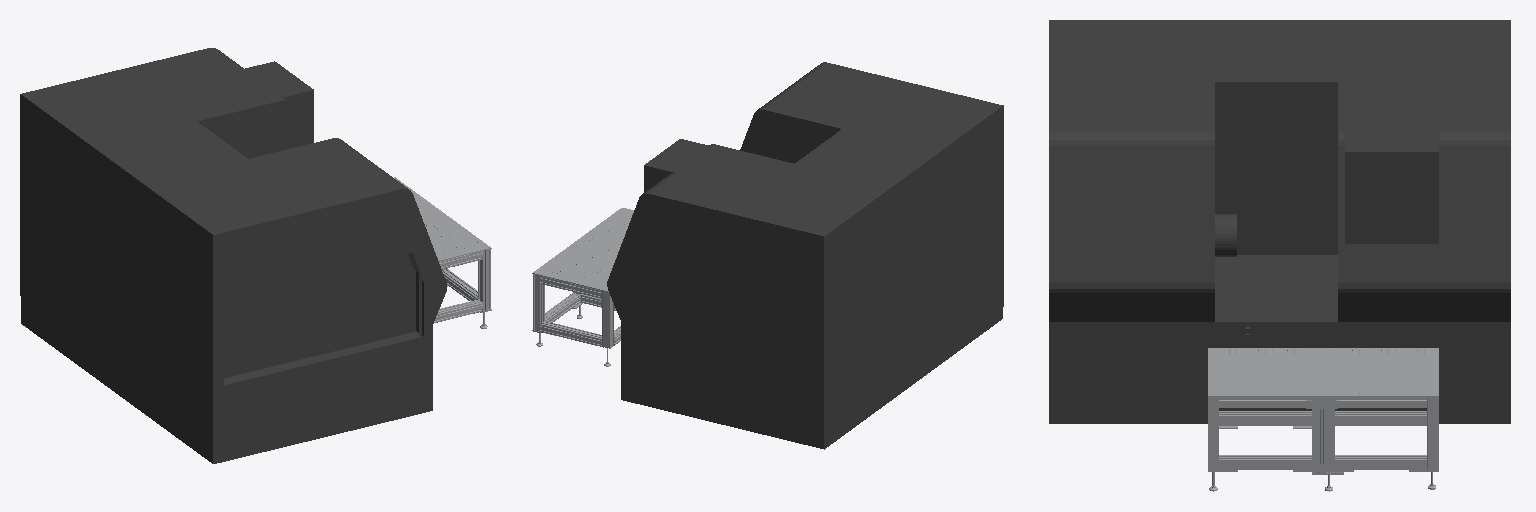
The robot description file, URDF, robot "robot":
<?xml version="1.0" encoding="UTF-8"?>
<robot name="robot">
	<link name="world" />
	<link name="machine">
		<visual>
			<geometry>
				<mesh filename="package://robotplus_description/meshes/machine.STL" />
			</geometry>
			<material name="">
				<color rgba="0.31 0.31 0.31 1" />
			</material>
		</visual>
		<collision>
			<origin xyz="0 0 0" rpy="0 0 0" />
			<geometry>
				<mesh filename="package://robotplus_description/meshes/machine.STL" />
			</geometry>
		</collision>
	</link>
	<link name="base">
		<visual>
			<geometry>
				<mesh filename="package://robotplus_description/meshes/base.STL"/>
			</geometry>
			<material name="">
				<color rgba="0.67 0.68 0.69 1" />
			</material>
		</visual>
		<collision>
			<origin xyz="0 0 0" rpy="0 0 0" />
			<geometry>
				<mesh filename="package://robotplus_description/meshes/base.STL"/>
			</geometry>
		</collision>
	</link>
	<link name="base_link">
		<visual>
			<geometry>
				<mesh filename="package://robotplus_description/meshes/UR10e/base_link.STL" />
			</geometry>
			<material name="">
				<color rgba="0.594117647058824 0.594117647058824 0.594117647058824 1" />
			</material>
		</visual>
		<collision>
			<origin xyz="0 0 0" rpy="0 0 0" />
			<geometry>
				<mesh filename="package://robotplus_description/meshes/UR10e/base_link.STL" />
			</geometry>
		</collision>
	</link>
	<link name="link1">
		<visual>
			<geometry>
				<mesh filename="package://robotplus_description/meshes/UR10e/link1.STL" />
			</geometry>
			<material name="">
				<color rgba="0.79216 0.81961 0.93333 1" />
			</material>
		</visual>
		<collision>
			<origin xyz="0 0 0" rpy="0 0 0" />
			<geometry>
				<mesh filename="package://robotplus_description/meshes/UR10e/link1.STL" />
			</geometry>
		</collision>
	</link>
	<link name="link2">
		<visual>
			<geometry>
				<mesh filename="package://robotplus_description/meshes/UR10e/link2.STL" />
			</geometry>
			<material name="">
				<color rgba="0.79216 0.81961 0.93333 1" />
			</material>
		</visual>
		<collision>
			<origin xyz="0 0 0" rpy="0 0 0" />
			<geometry>
				<mesh filename="package://robotplus_description/meshes/UR10e/link2.STL" />
			</geometry>
		</collision>
	</link>
	<link name="link3">
		<visual>
			<geometry>
				<mesh filename="package://robotplus_description/meshes/UR10e/link3.STL" />
			</geometry>
			<material name="">
				<color rgba="0.79216 0.81961 0.93333 1" />
			</material>
		</visual>
		<collision>
			<origin xyz="0 0 0" rpy="0 0 0" />
			<geometry>
				<mesh filename="package://robotplus_description/meshes/UR10e/link3.STL" />
			</geometry>
		</collision>
	</link>
	<link name="link4">
		<visual>
			<geometry>
				<mesh filename="package://robotplus_description/meshes/UR10e/link4.STL" />
			</geometry>
			<material name="">
				<color rgba="0.79216 0.81961 0.93333 1" />
			</material>
		</visual>
		<collision>
			<origin xyz="0 0 0" rpy="0 0 0" />
			<geometry>
				<mesh filename="package://robotplus_description/meshes/UR10e/link4.STL" />
			</geometry>
		</collision>
	</link>
	<link name="link5">
		<visual>
			<geometry>
				<mesh filename="package://robotplus_description/meshes/UR10e/link5.STL" />
			</geometry>
			<material name="">
				<color rgba="0.79216 0.81961 0.93333 1" />
			</material>
		</visual>
		<collision>
			<origin xyz="0 0 0" rpy="0 0 0" />
			<geometry>
				<mesh filename="package://robotplus_description/meshes/UR10e/link5.STL" />
			</geometry>
		</collision>
	</link>
	<link name="link6">
		<visual>
			<geometry>
				<mesh filename="package://robotplus_description/meshes/UR10e/link6.STL" />
			</geometry>
			<material name="">
				<color rgba="0.79216 0.81961 0.93333 1" />
			</material>
		</visual>
		<collision>
			<origin xyz="0 0 0" rpy="0 0 0" />
			<geometry>
				<mesh filename="package://robotplus_description/meshes/UR10e/link6.STL" />
			</geometry>
		</collision>
	</link>
	<link name="end" />
	<joint name="link6_end" type="fixed">
		<origin xyz="0 0 -0.1153" rpy="1.5708 0 1.5708" />
		<parent link="link6" />
		<child link="end" />
		<axis xyz="0 0 0" />
	</joint>
	<link name="gripper_cam_jig">
		<visual>
			<origin xyz="0 0 0" rpy="0 0 0" />
			<geometry>
				<mesh filename="package://keti_robot_description/meshes/gripper_cam_jig.STL" />
			</geometry>
			<material name="">
				<color rgba="0.898039215686275 0.917647058823529 0.929411764705882 1" />
			</material>
		</visual>
		<collision>
			<origin xyz="0 0 0" rpy="0 0 0" />
			<geometry>
				<mesh filename="package://keti_robot_description/meshes/gripper_cam_jig.STL" />
			</geometry>
		</collision>
	</link>
	<link name="cam">
		<visual>
			<origin xyz="0 0 0" rpy="0 0 0" />
			<geometry>
				<mesh filename="package://keti_robot_description/meshes/cam.STL" />
			</geometry>
			<material name="">
				<color rgba="0.792156862745098 0.819607843137255 0.933333333333333 1" />
			</material>
		</visual>
		<collision>
			<origin xyz="0 0 0" rpy="0 0 0" />
			<geometry>
				<mesh filename="package://keti_robot_description/meshes/cam.STL" />
			</geometry>
		</collision>
	</link>

	<joint name="machine_fixed" type="fixed">
		<origin xyz="-0.58 -1.52 0" rpy="0 -1.5709 0" />
		<parent link="world" />
		<child link="machine" />
	</joint>
	<joint name="base_fixed" type="fixed">
		<origin xyz="0.42 0.62 0" rpy="-1.5709 0 3.1416"/>
		<parent link="base_link"/>
		<child link="base"/>
	</joint>
	<joint name="base_link_fixed" type="fixed">
		<origin xyz="0 0 0.77" rpy="0 0 -1.5709"/>
		<parent link="world"/>
		<child link="base_link"/>
	</joint>
	<joint name="q1" type="revolute">
		<origin xyz="0 0 0" rpy="0 0 0" />
		<parent link="base_link" />
		<child link="link1" />
		<axis xyz="0 0 1" />
		<limit lower="-3.14" upper="3.14" effort="100" velocity="10" />
	</joint>
	<joint name="q2" type="revolute">
		<origin xyz="0 0 0.1807" rpy="1.5708 1.5708 0" />
		<parent link="link1" />
		<child link="link2" />
		<axis xyz="0 0 1" />
		<limit lower="-3.14" upper="3.14" effort="100" velocity="10" />
	</joint>
	<joint name="q3" type="revolute">
		<origin xyz="-0.6127 0 0" rpy="0 0 0" />
		<parent link="link2" />
		<child link="link3" />
		<axis xyz="0 0 1" />
		<limit lower="-3.14" upper="3.14" effort="100" velocity="10" />
	</joint>
	<joint name="q4" type="revolute">
		<origin xyz="-0.57155 0 0" rpy="0 0 -1.5708" />
		<parent link="link3" />
		<child link="link4" />
		<axis xyz="0 0 1" />
		<limit lower="-3.14" upper="3.14" effort="100" velocity="10" />
	</joint>
	<joint name="q5" type="revolute">
		<origin xyz="0 0 0.17415" rpy="1.5708 0 0" />
		<parent link="link4" />
		<child link="link5" />
		<axis xyz="0 0 1" />
		<limit lower="-3.14" upper="3.14" effort="100" velocity="10" />
	</joint>
	<joint name="q6" type="revolute">
		<origin xyz="0 0 0.11985" rpy="-1.5708 0 0" />
		<parent link="link5" />
		<child link="link6" />
		<axis xyz="0 0 1" />
		<limit lower="-3.14" upper="3.14" effort="100" velocity="10" />
	</joint>
	<joint name="link6_jig" type="fixed">
		<origin xyz="0 0 0.12" rpy="3.1416 0 1.5709" />
		<parent link="link6" />
		<child link="gripper_cam_jig" />
		<axis xyz="0 0 0" />
	</joint>
	<joint name="jig_cam" type="fixed">
		<origin xyz="-0.0583225279657438 0 -0.0820000000000001"
			rpy="3.14159265358979 0 1.5707963267949" />
		<parent link="gripper_cam_jig" />
		<child link="cam" />
		<axis xyz="0 0 0" />
	</joint>

</robot>

--- Render facts (derived) ---
Views: 3 orthographic renders of the robot side by side, from view 1: azimuth 30°, elevation 25°; view 2: azimuth 150°, elevation 25°; view 3: azimuth 270°, elevation 25°.
Robot: robot — 13 links, 12 joints (6 revolute, 6 fixed); root link world; default pose: all joints at 0.
Links seen in each view (by area): view 1: machine, base; view 2: machine, base; view 3: machine, base.
Boxes of the visible links, box(x1,y1,x2,y2) form: machine: box(20, 48, 446, 463); base: box(394, 177, 491, 328); machine: box(607, 62, 1003, 449); base: box(532, 208, 633, 366); machine: box(1049, 20, 1510, 423); base: box(1208, 348, 1438, 491).
Bounding box of the posed robot: 3.31 × 3.2 × 2.1 m (x, y, z).
Meshes: 11 distinct files referenced, 2 mesh visuals loaded (2 binary STL); not drawn: 9 (reference not matched to a file when rendering).